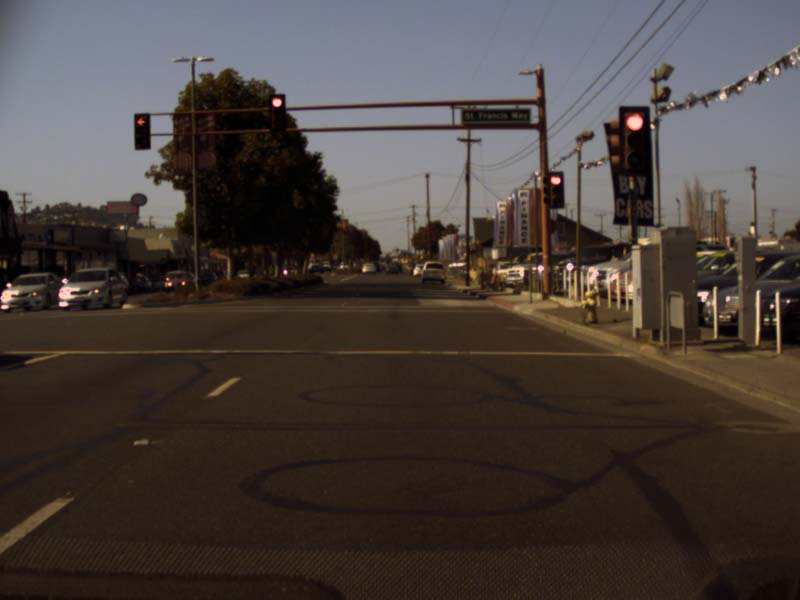Red: (618, 106, 648, 172), (134, 113, 149, 148), (548, 171, 562, 206), (270, 95, 284, 129)
